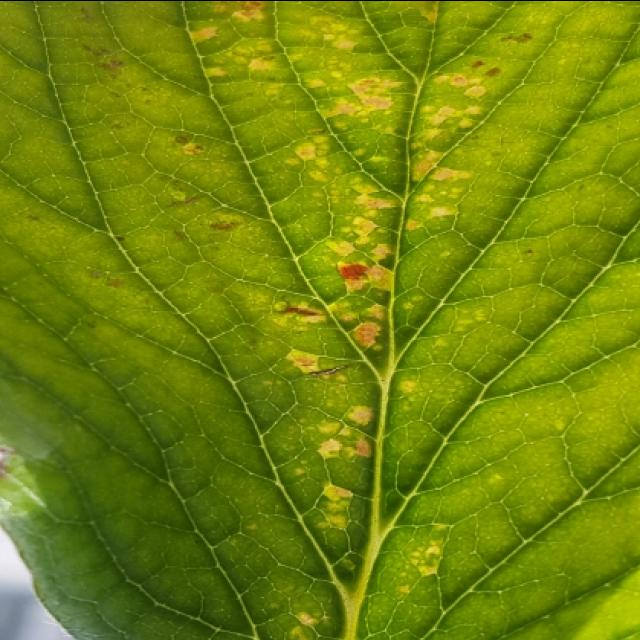Angular Leafspot: (19, 2, 559, 640)
